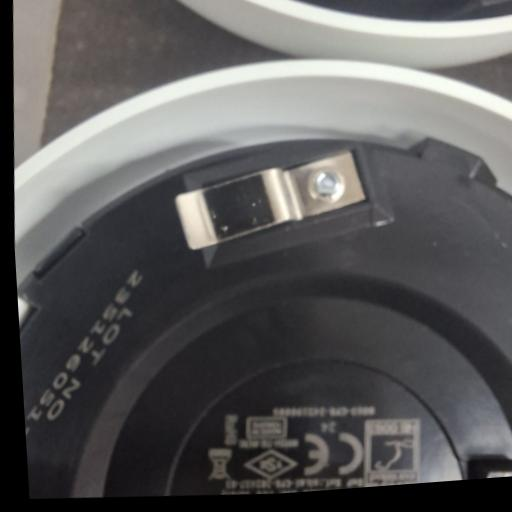yaysiz: (166, 141, 374, 262)
